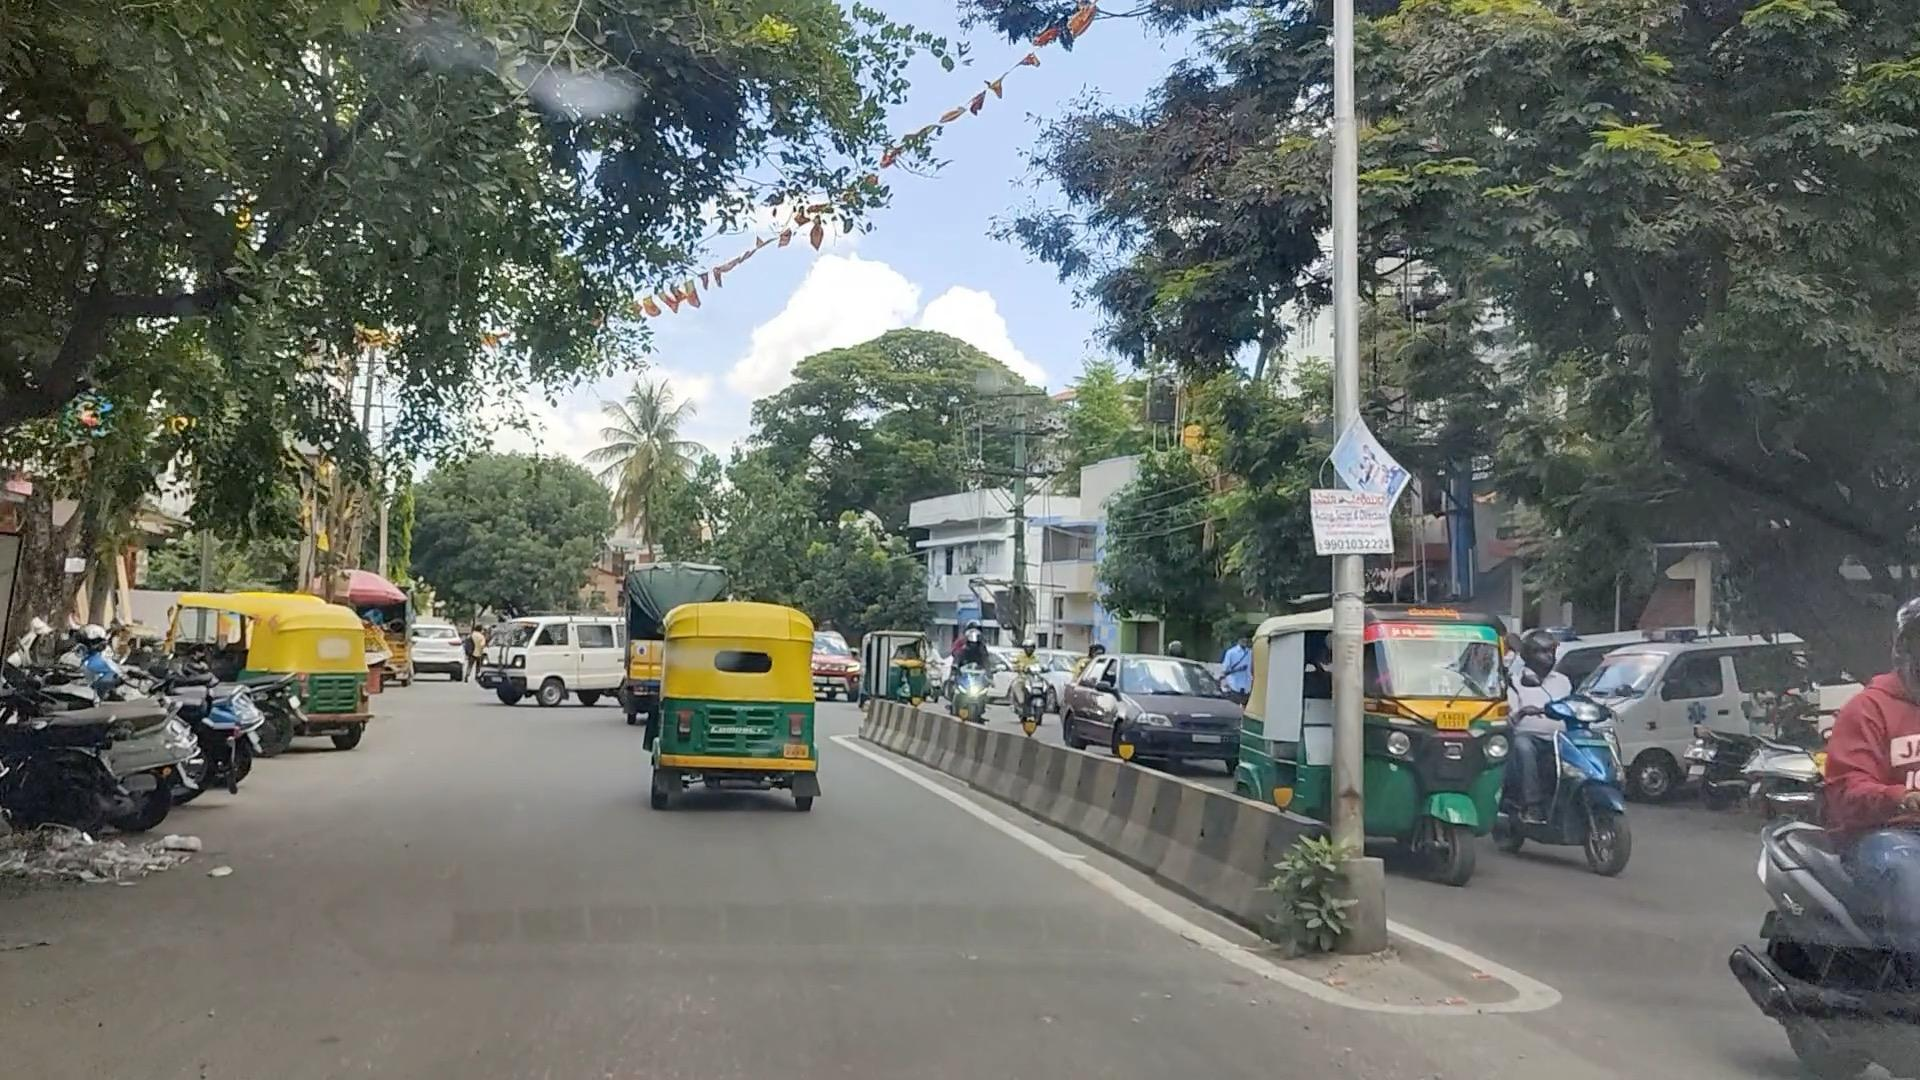LMV: (187, 583, 361, 749), (661, 596, 814, 777)
